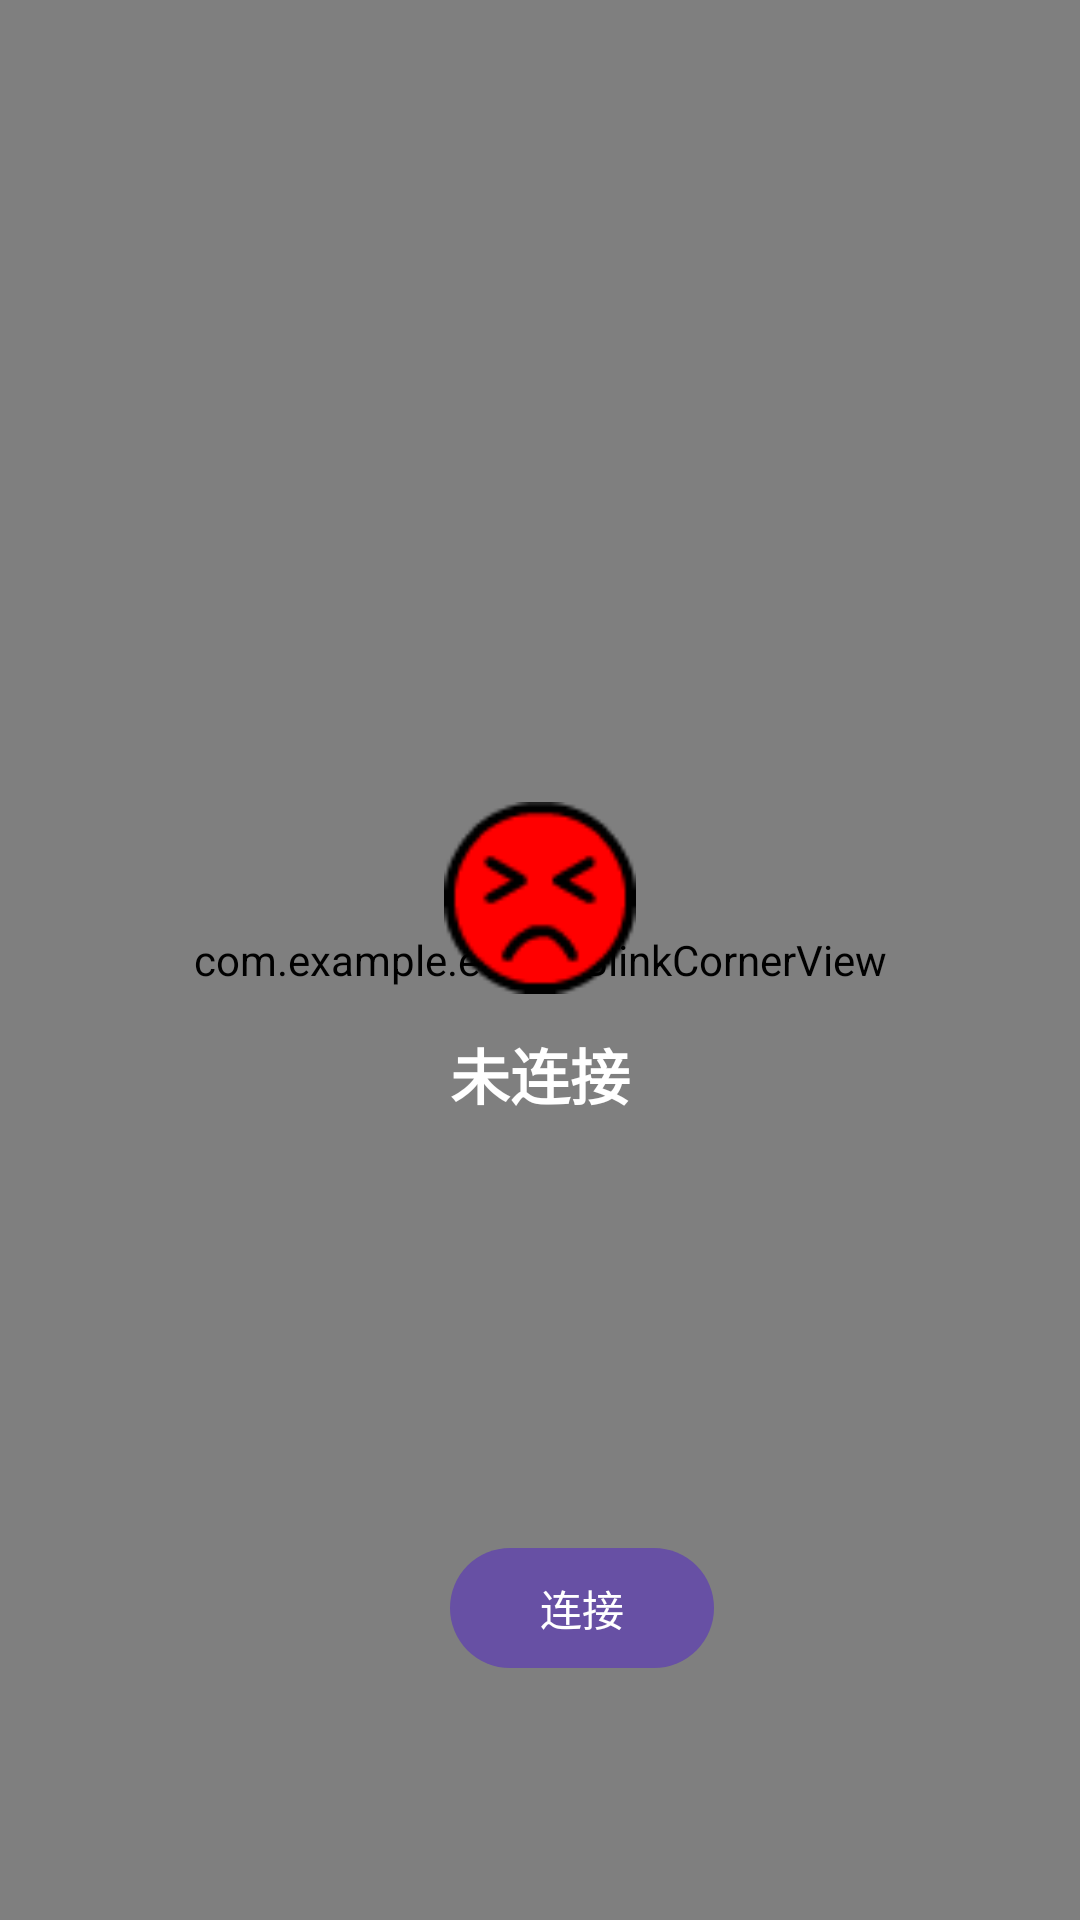

Where to tap for icons on this 1080px×1920px app screen, as [x,y]:
redlight: [540,898]
